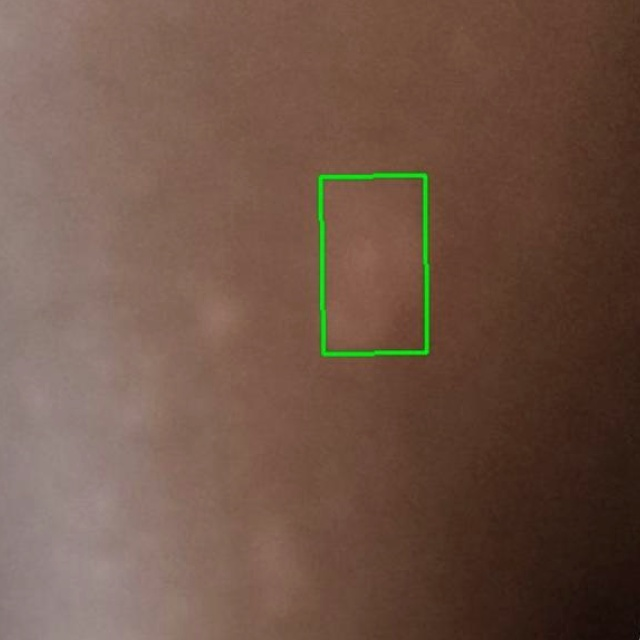Tinea Corporis: (320, 176, 426, 354)
